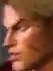kevin: (0, 4, 48, 69)
